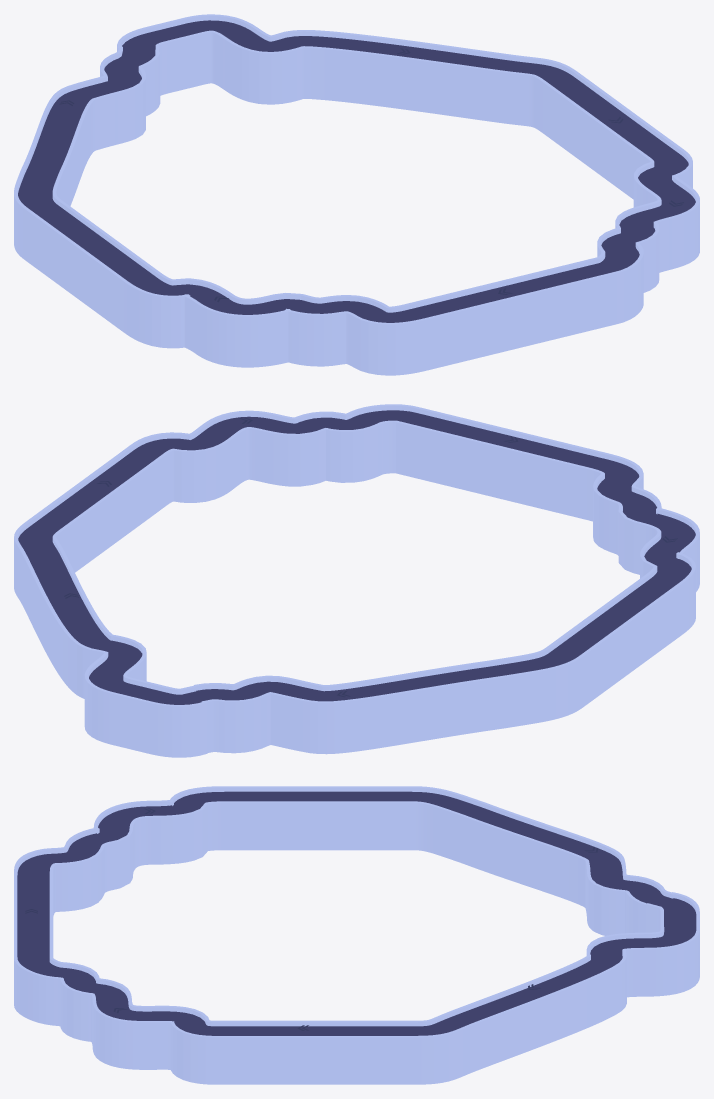
The model's file is Conveyor.glb.
3 views of the same model, one above another, from view 1: azimuth 30°, elevation 25°; view 2: azimuth 150°, elevation 25°; view 3: azimuth 270°, elevation 25° (orthographic). The views are drawn at different scales.
Visible parts, largest first — view 1: bridge.004; view 2: bridge.004; view 3: bridge.004.
Boxes of the visible parts, x1,y1,x2,y2 form: bridge.004: (14, 14, 699, 375); bridge.004: (14, 404, 699, 757); bridge.004: (14, 786, 699, 1084).
Bounding box in the file's own units: 3.06 × 0.2699 × 3.53.
